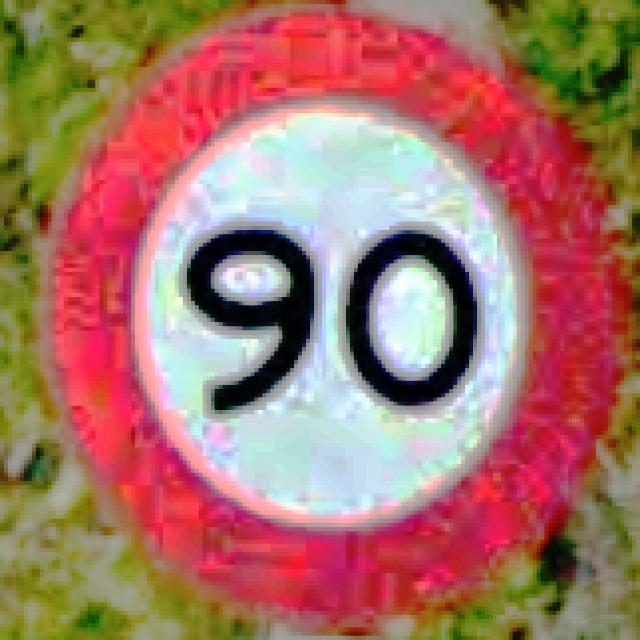max90: (32, 0, 632, 632)
